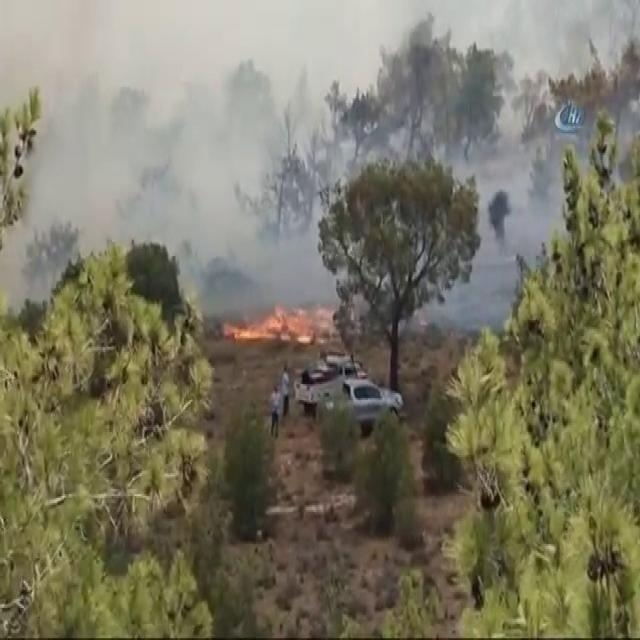Fire: (227, 300, 343, 350)
Smoke: (52, 101, 576, 266)
